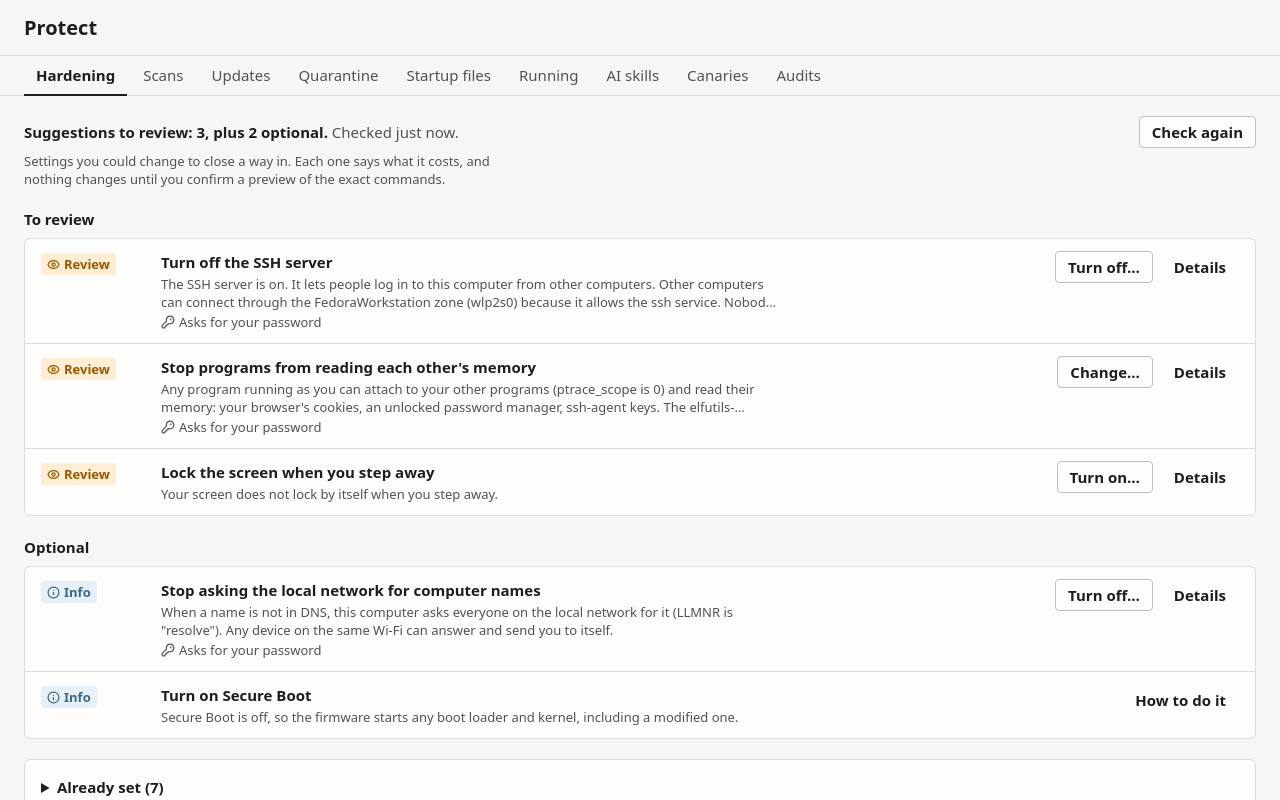
Test: Hardening › previews the exact commands, makes the change and offers Undo
Click the button "Turn off…" in the row of "Turn off the SSH server" at (1104, 267), box [1055,251,1153,283]
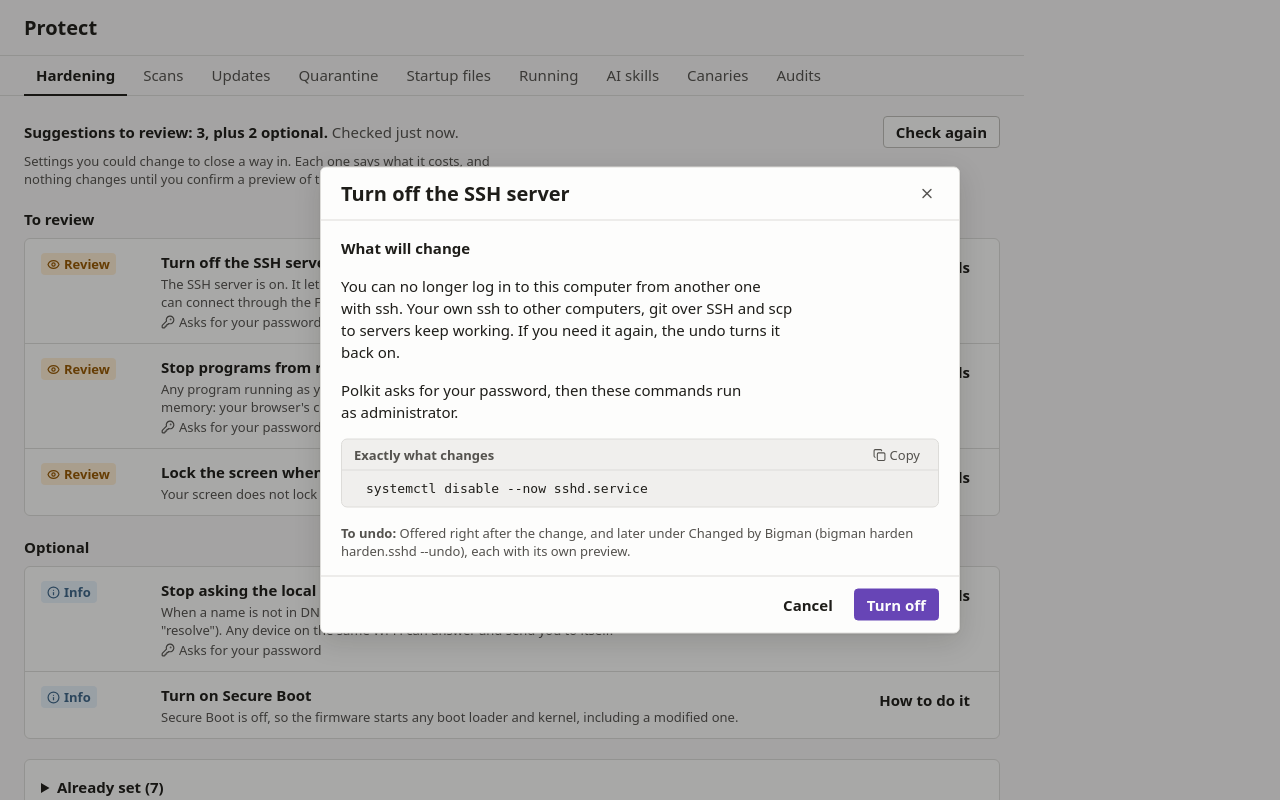
Expected: the text "systemctl disable --now sshd.service" is shown, [366,480,648,496]
Click the button "Turn off" at (896, 604), box [854,588,939,620]
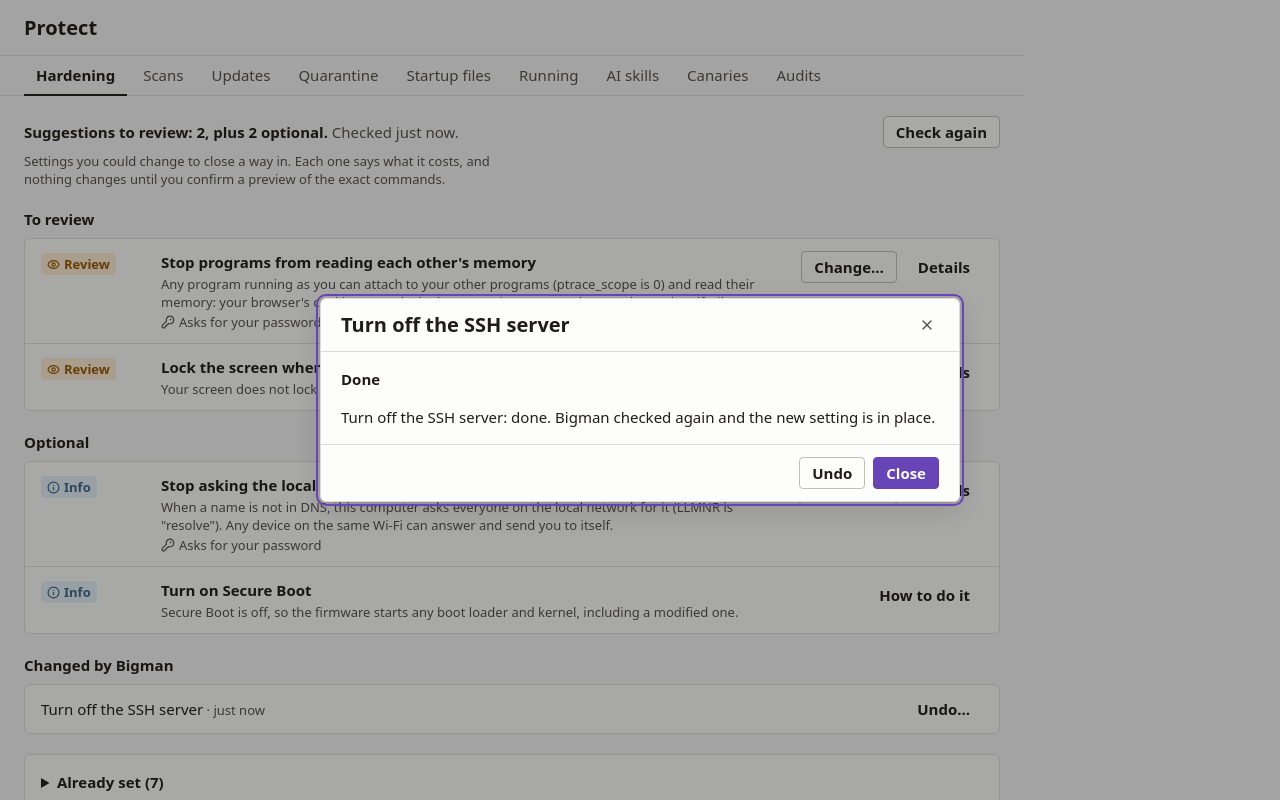
Expected: the text "done. Bigman checked again" is shown, [341,407,935,427]
Click the button "Undo" at (832, 473), box [799,457,865,489]
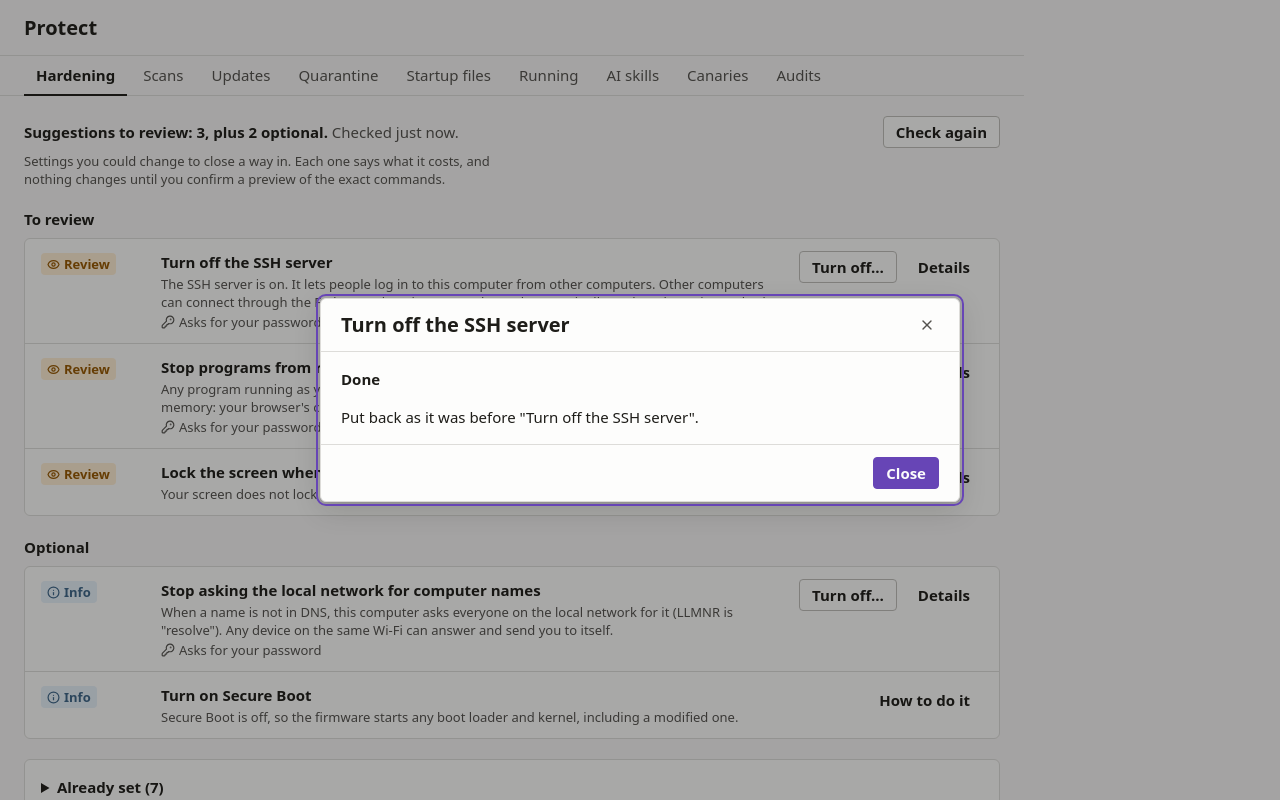
Expected: the text "Put back as it was before \"Turn off the SSH server\"." is shown, [341,407,699,427]
